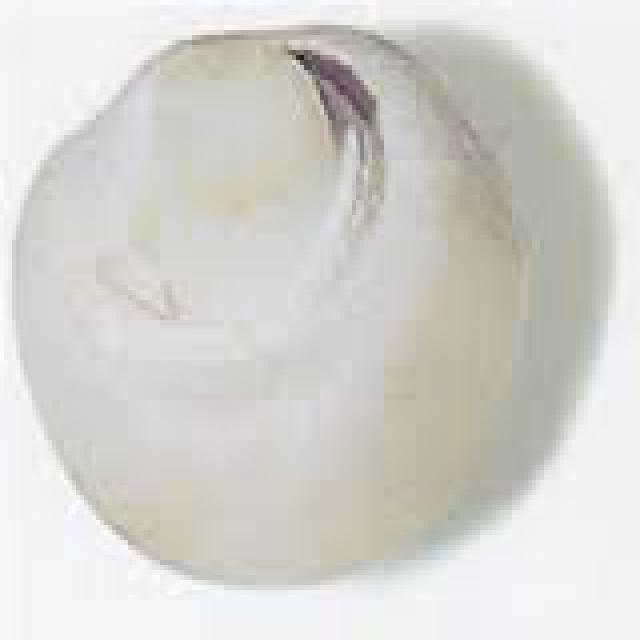Agaricus bisporus: (12, 28, 523, 592)
